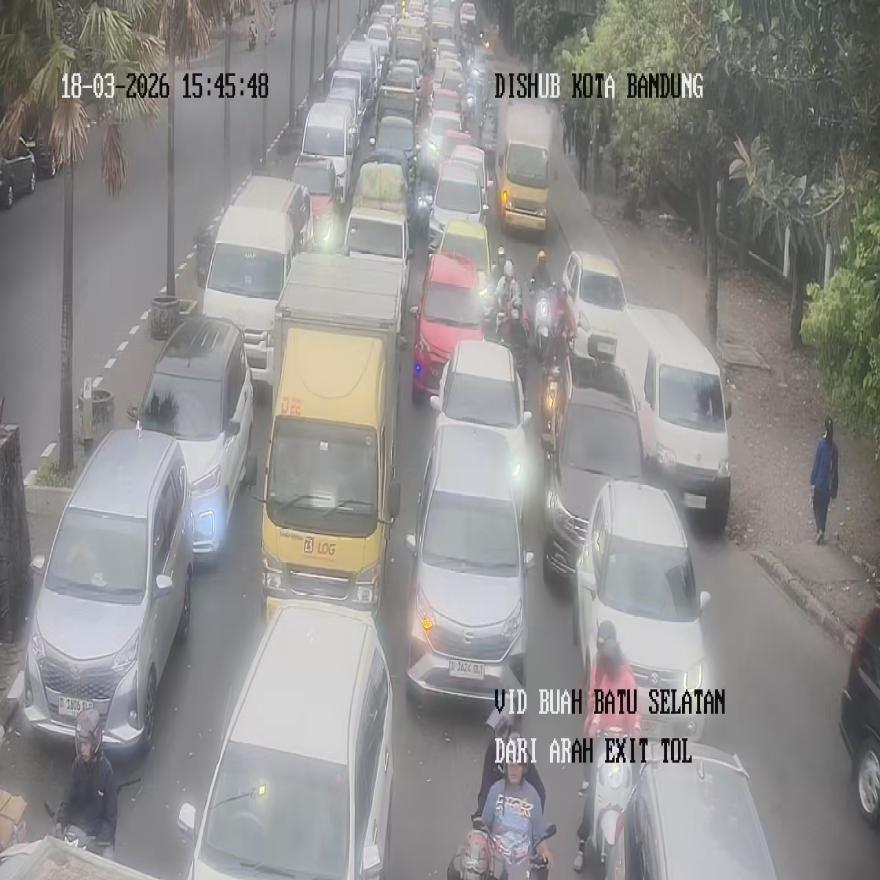Mobil: (177, 602, 394, 878), (20, 427, 193, 749), (404, 418, 534, 711), (572, 479, 710, 738), (127, 315, 257, 555), (614, 304, 731, 528), (603, 743, 777, 879), (542, 353, 644, 583), (201, 176, 311, 387), (429, 339, 531, 518), (342, 154, 412, 334), (410, 250, 483, 400), (838, 608, 880, 828), (560, 250, 626, 366)
Motor: (580, 727, 642, 878), (447, 816, 555, 880), (498, 288, 527, 392), (530, 281, 558, 364), (539, 361, 560, 452), (248, 21, 257, 50)
